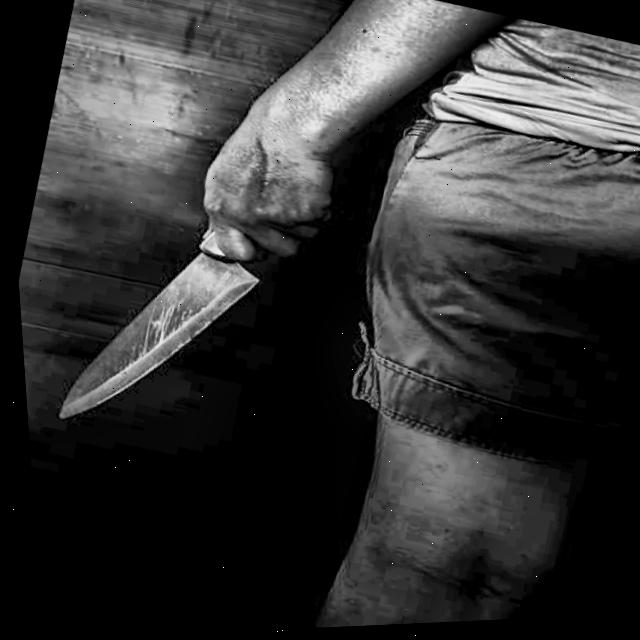pisau: (29, 147, 325, 476)
